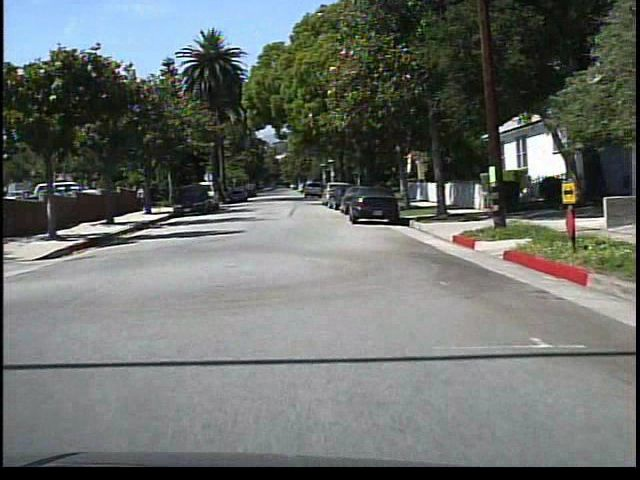person: (136, 183, 151, 213)
